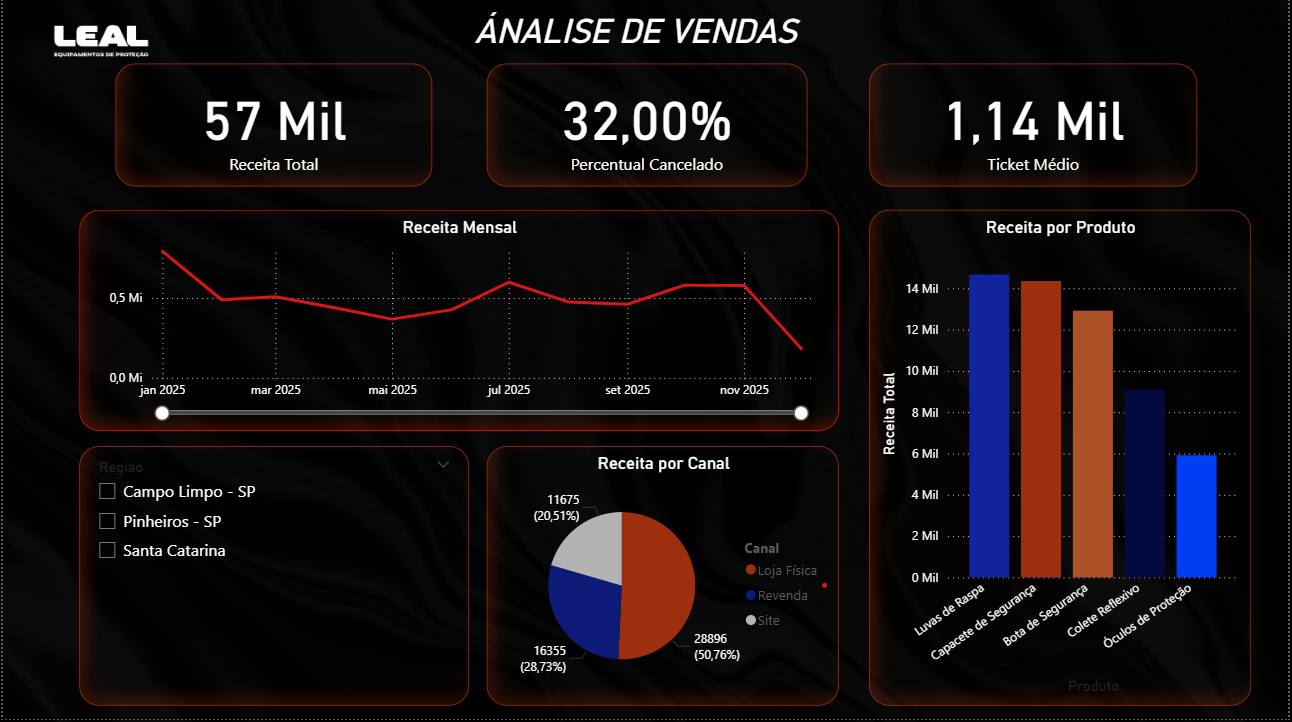

This screenshot's page, from the dashboard's own definition file:
{"tool":"powerbi","page":{"name":"Página 1","canvas":[1280,720],"ordinal":0},"visuals":[{"type":"card","fields":{"Values":["Sum(Ticket medio.Ticket Médio)"]},"box":[862,67.1,326.6,122.8],"z":0},{"type":"card","fields":{"Values":["Sum(Receita total.Receita Total)"]},"box":[111.4,67.1,315.2,122.8],"z":1},{"type":"card","fields":{"Values":["vendas_leal_limpo.Percentual Cancelado"]},"box":[481,67.1,319,122.8],"z":2},{"type":"columnChart","title":" Receita por Produto","fields":{"Category":["produtos mais vendidos.Produto"],"Y":["Sum(produtos mais vendidos.Receita)"]},"box":[862,212.7,379.7,493.7],"z":4},{"type":"lineChart","title":" Receita Mensal","fields":{"Category":["Receita Mensal.Mês.Variation.Hierarquia de datas.Ano","Receita Mensal.Mês.Variation.Hierarquia de datas.Trimestre","Receita Mensal.Mês.Variation.Hierarquia de datas.Mês","Receita Mensal.Mês.Variation.Hierarquia de datas.Dia"],"Y":["Sum(Receita Mensal.Receita Mensal)"]},"box":[75.9,212.7,755.7,220.3],"z":5},{"type":"pieChart","title":"Receita por Canal","fields":{"Category":["Receita Canal.Canal"],"Y":["Sum(Receita Canal.Receital Canal)"]},"box":[481.4,447.8,350.8,258.7],"z":6},{"type":"textbox","box":[482.3,11.4,350.6,55.7],"z":7},{"type":"slicer","fields":{"Values":["Receita Regiao.Regiao"]},"box":[75.9,447.8,388.1,258.7],"z":9},{"type":"image","box":[0,0,194.9,82.3],"z":10}]}

Visuals, with their boxes in screenshot pixels (x1, y1, x2, y2), scaled from the page's 1280x720 canvas onto the 1292x722 screenshot:
card - Sum(Ticket medio.Ticket Médio): rect(870, 67, 1200, 190)
card - Sum(Receita total.Receita Total): rect(112, 67, 431, 190)
card - vendas_leal_limpo.Percentual Cancelado: rect(486, 67, 807, 190)
" Receita por Produto" columnChart: rect(870, 213, 1253, 708)
" Receita Mensal" lineChart: rect(77, 213, 839, 434)
"Receita por Canal" pieChart: rect(486, 449, 840, 708)
textbox: rect(487, 11, 841, 67)
slicer - Receita Regiao.Regiao: rect(77, 449, 468, 708)
image: rect(0, 0, 197, 83)
